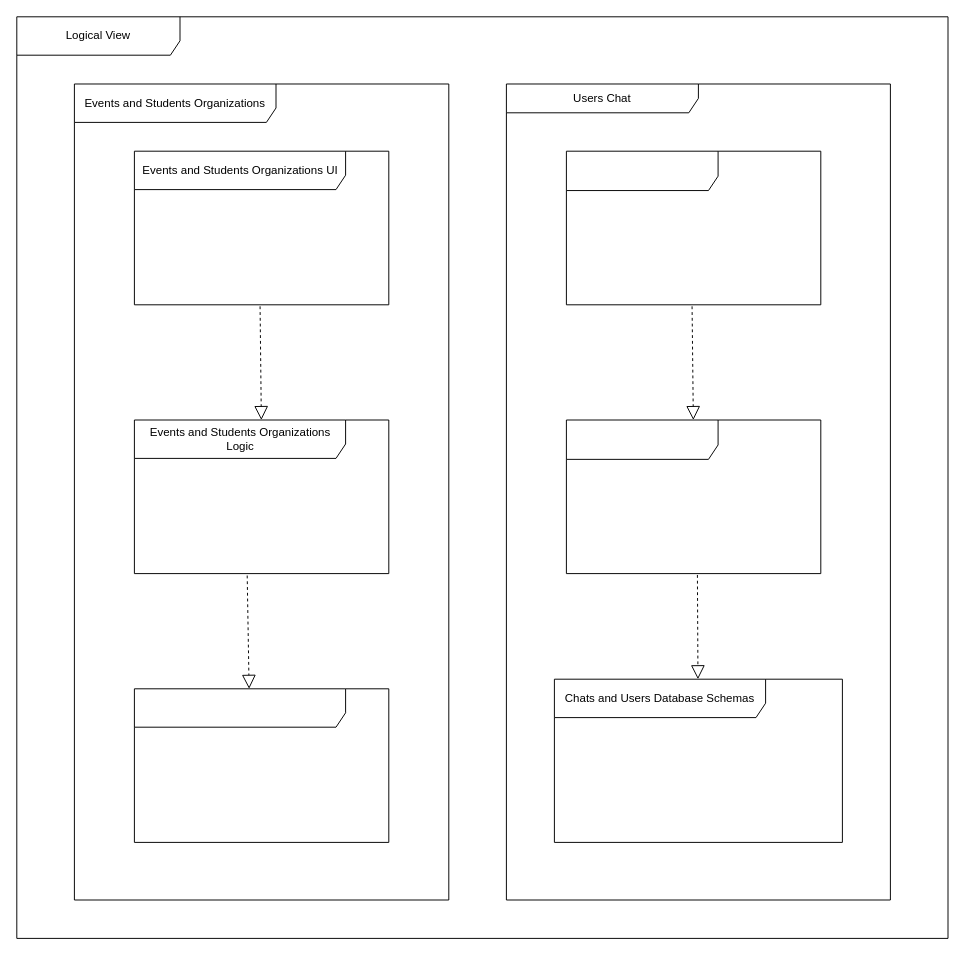
Image size: 965x955. Some labels were removed from this diagram. Each missing label, with the box of its shape:
Events and Students Organizations Database Schemas: (133, 688, 389, 842)
Users Chat Logic: (565, 419, 821, 574)
Users Chat UI: (565, 150, 821, 305)
